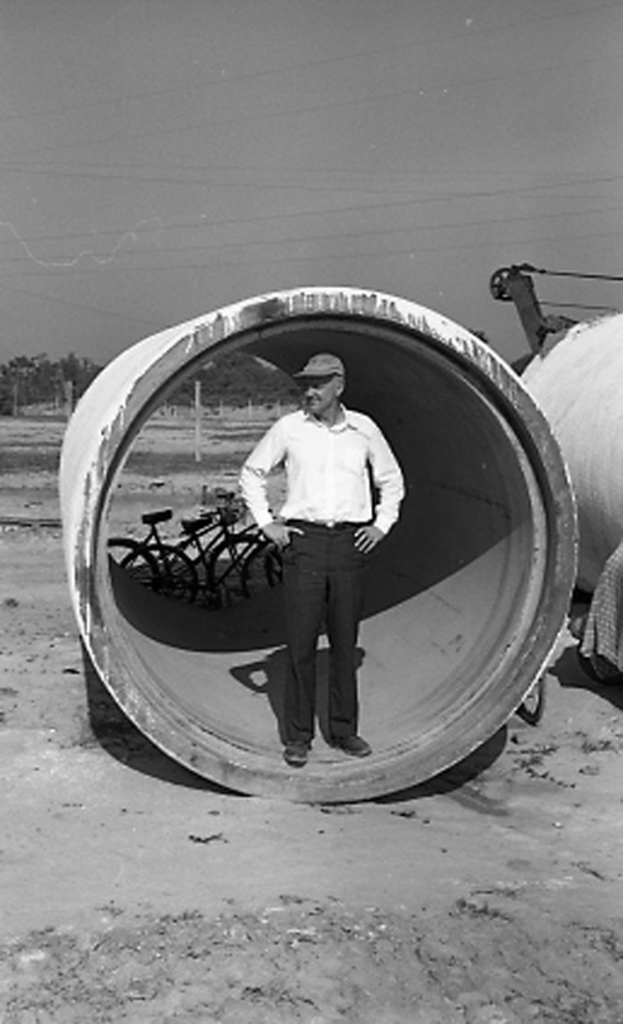Footwear: (324, 730, 373, 759), (283, 742, 309, 764)
